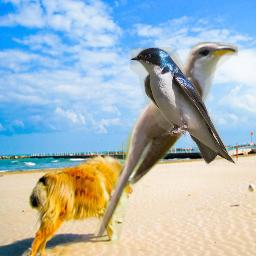Cuckoo: (91, 42, 238, 245)
Swallow: (130, 47, 237, 166)
